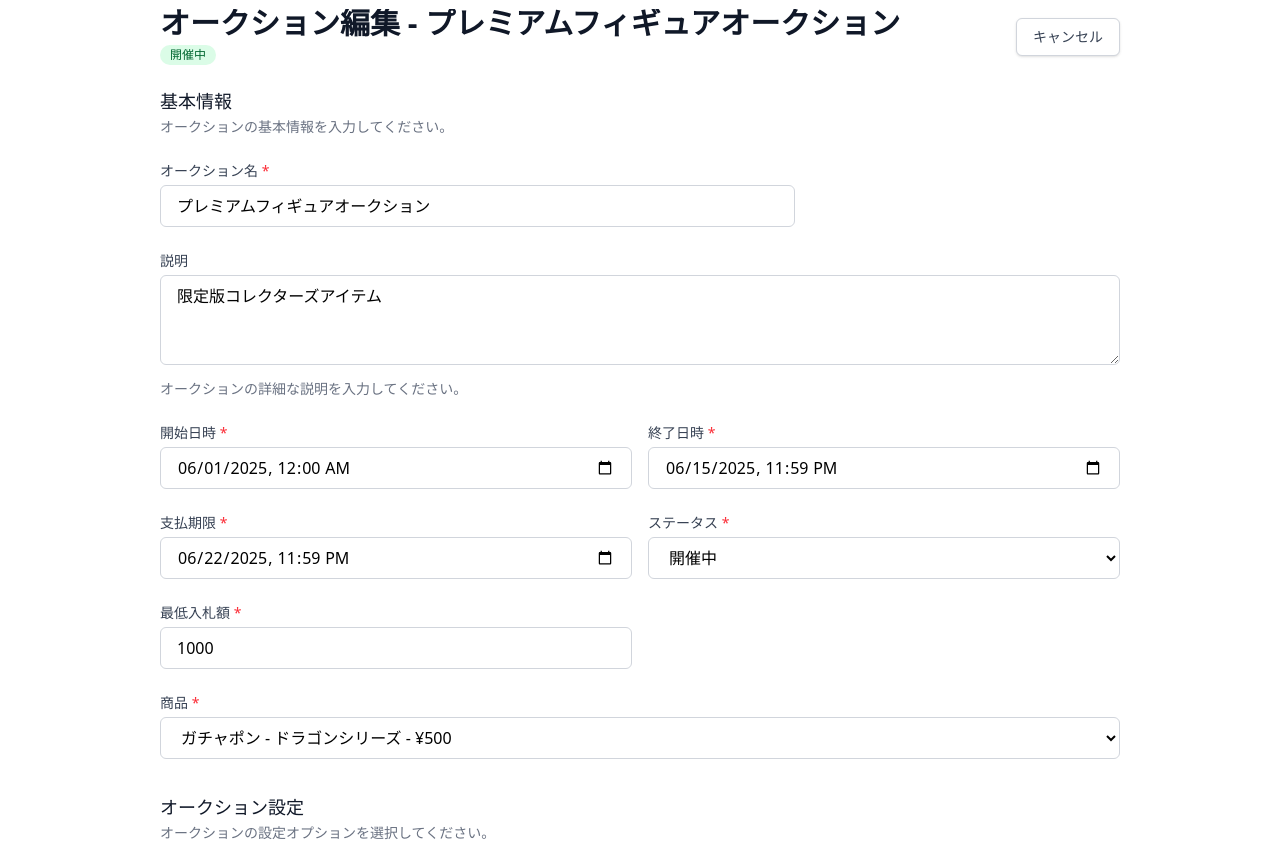
Test case: オークション編集ページ › handleSubmit機能 › 商品が選択されていない場合、エラーメッセージが表示されること
This screenshot has width=1280, height=868.
Select "選択してください" in the dropdown labelled "商品 *": (640, 738) [160,717,1120,759]
(page scrolled)
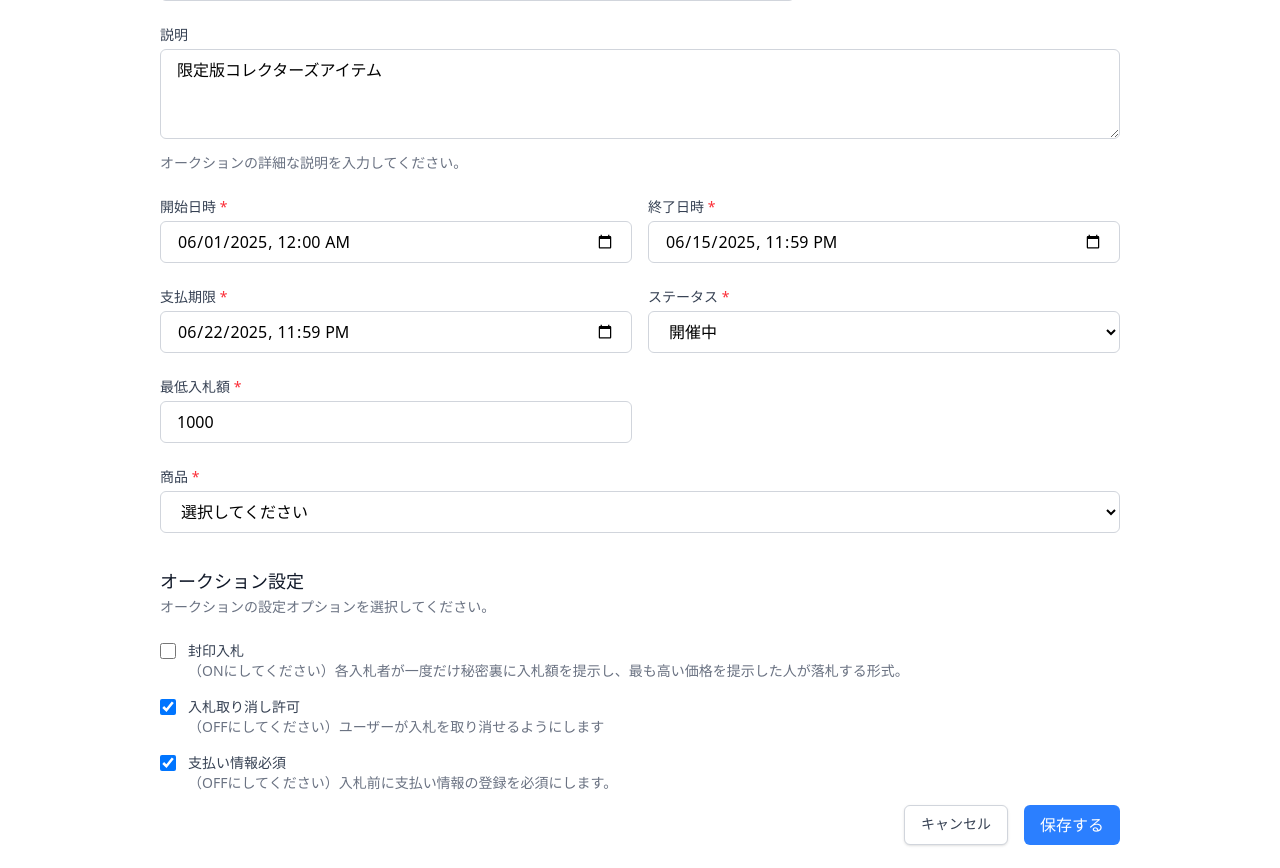
Click the button "保存する": (1072, 825) [1024,805,1120,845]
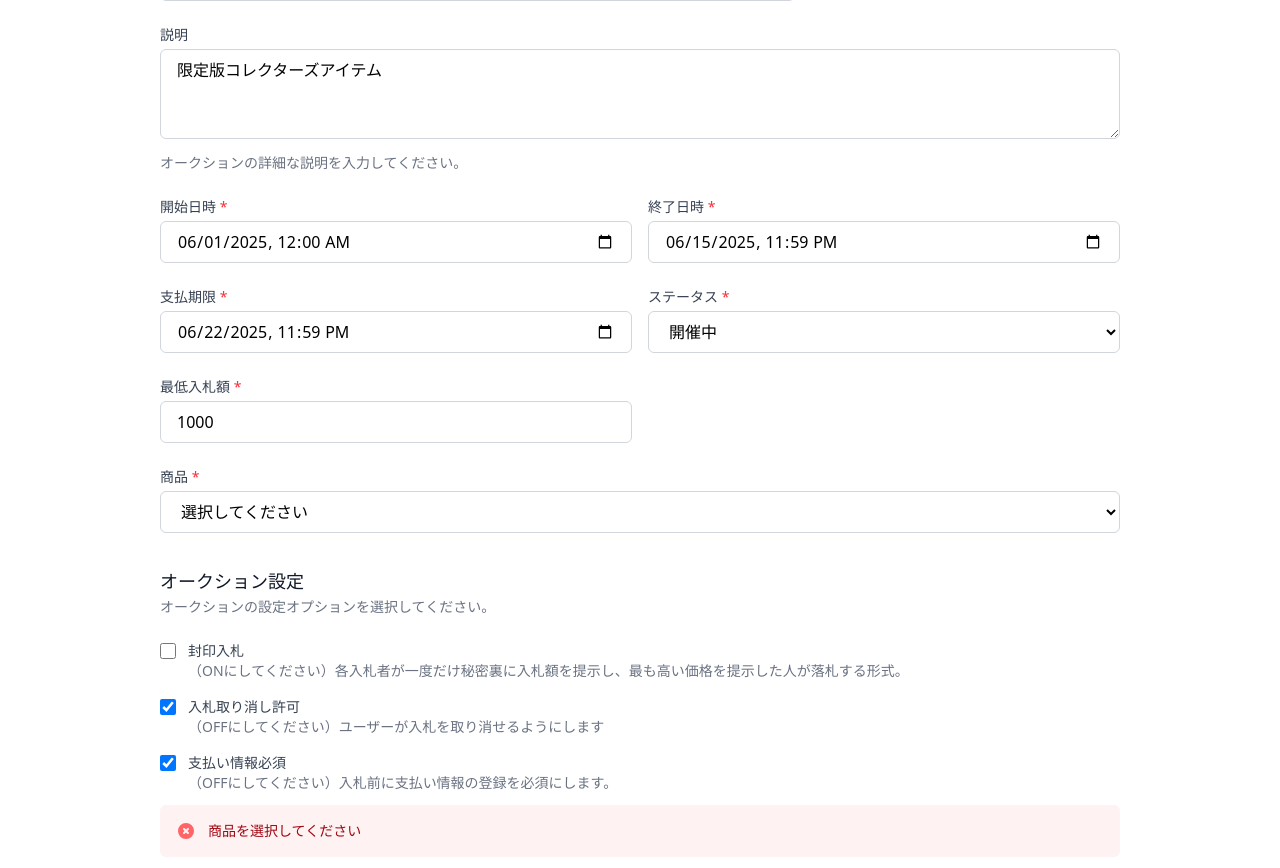
Expected: the heading "商品を選択してください" is shown, [208,821,361,841]
